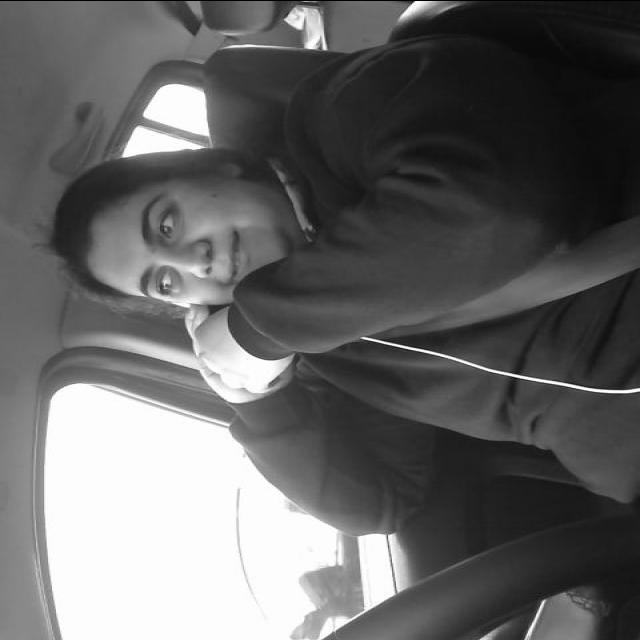mobile use: (186, 296, 304, 384)
